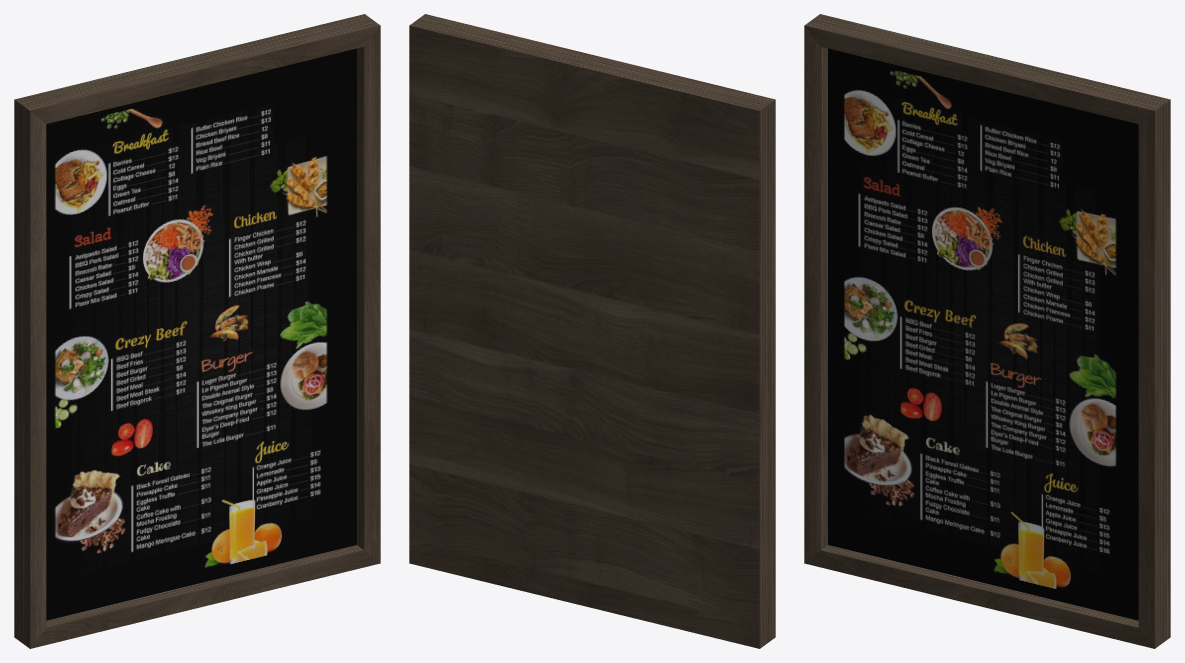
File: Board 2.fbx
3 views of the same model, side by side, from view 1: azimuth 30°, elevation 25°; view 2: azimuth 150°, elevation 25°; view 3: azimuth 330°, elevation 25° (orthographic).
Parts seen in each view (by area): view 1: Board 2; view 2: Board 2; view 3: Board 2.
Boxes of the visible parts, <box> form: Board 2: <box>14,14,380,648</box>; Board 2: <box>409,14,775,648</box>; Board 2: <box>804,14,1170,648</box>.
Bounding box in the file's own units: 45.9 × 67.32 × 3.59.
2 materials, 2 textured.
